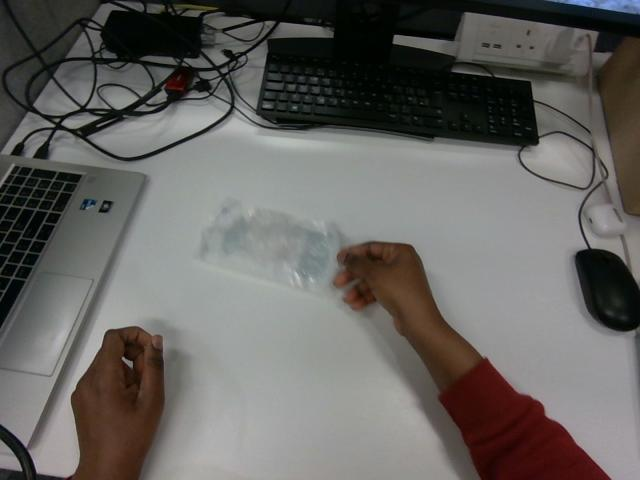gallipot: (200, 200, 339, 291)
